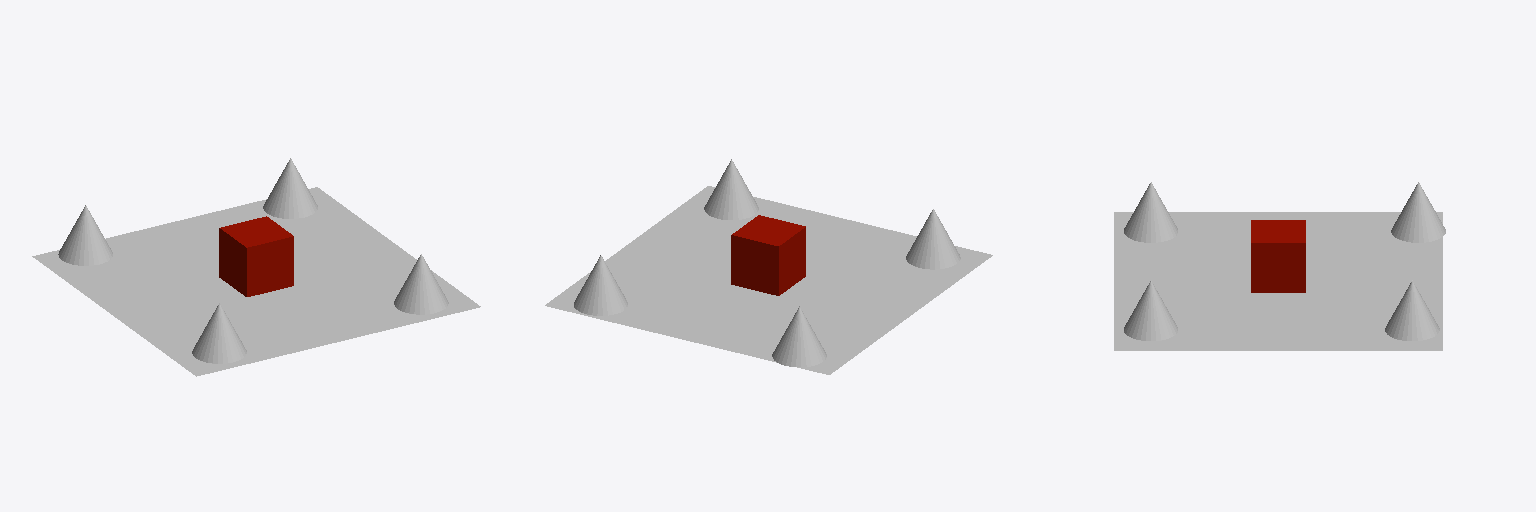
Rendered from teste.obj.
3 views of the same model, side by side, from view 1: azimuth 30°, elevation 25°; view 2: azimuth 150°, elevation 25°; view 3: azimuth 270°, elevation 25° (orthographic).
Visible parts, largest first — view 1: Plane, Cube, Cone.003, Cone.002, Cone.001, Cone; view 2: Plane, Cube, Cone.003, Cone.002, Cone.001, Cone; view 3: Plane, Cube, Cone, Cone.001, Cone.003, Cone.002.
Boxes of the visible parts, <box> form: Plane: <box>32,187,480,376</box>; Cube: <box>219,216,293,296</box>; Cone.003: <box>263,158,317,218</box>; Cone.002: <box>394,254,448,314</box>; Cone.001: <box>192,303,246,363</box>; Cone: <box>58,205,112,265</box>; Plane: <box>545,186,992,374</box>; Cube: <box>731,215,805,295</box>; Cone.003: <box>574,255,627,315</box>; Cone.002: <box>704,159,758,219</box>; Cone.001: <box>906,209,960,269</box>; Cone: <box>772,306,826,366</box>; Plane: <box>1114,212,1442,350</box>; Cube: <box>1251,220,1305,292</box>; Cone: <box>1391,182,1445,242</box>; Cone.001: <box>1124,182,1177,242</box>; Cone.003: <box>1385,280,1439,340</box>; Cone.002: <box>1124,281,1177,340</box>.
Bounding box in the file's own units: 12.01 × 2.02 × 12.1.